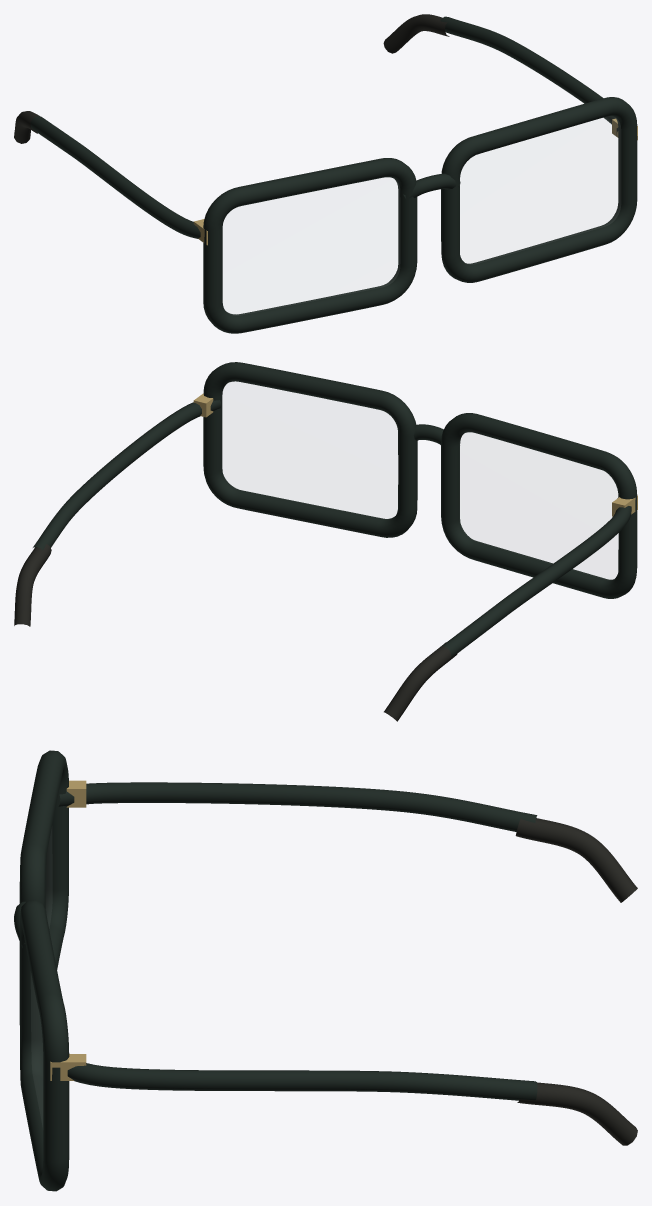
File: glasses.glb
The picture shows the model from 3 angles, top to bottom: view 1: azimuth 30°, elevation 25°; view 2: azimuth 150°, elevation 25°; view 3: azimuth 270°, elevation 25°; orthographic projection. The views are drawn at different scales.
Visible parts, largest first — view 1: rim-left, rim-right, temple-left, temple-right, ear-tip-right, bridge, ear-tip-left; view 2: rim-right, rim-left, temple-left, temple-right, ear-tip-left, ear-tip-right; view 3: rim-right, temple-right, temple-left, rim-left, ear-tip-left, ear-tip-right.
Part boxes in pixels (x1,y1,x2,y2): rim-left: [203, 158, 417, 333]; rim-right: [441, 97, 637, 282]; temple-left: [30, 116, 200, 238]; temple-right: [440, 16, 618, 136]; ear-tip-right: [383, 14, 449, 53]; bridge: [403, 173, 460, 199]; ear-tip-left: [14, 111, 39, 143]; rim-right: [203, 362, 417, 537]; rim-left: [441, 413, 637, 598]; temple-left: [442, 498, 631, 657]; temple-right: [33, 400, 221, 550]; ear-tip-left: [384, 642, 457, 721]; ear-tip-right: [14, 544, 51, 626]; rim-right: [20, 900, 69, 1191]; temple-right: [67, 1063, 537, 1100]; temple-left: [58, 782, 537, 831]; rim-left: [19, 750, 68, 1024]; ear-tip-left: [515, 818, 637, 902]; ear-tip-right: [517, 1082, 637, 1145].
Size of the model in its own units: 2.53 by 0.7747 by 2.26.
